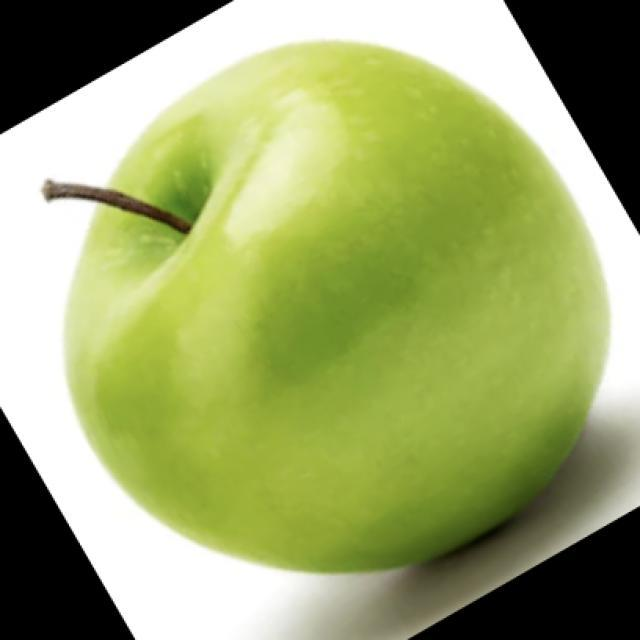Fresh Apple: (69, 39, 612, 576)
